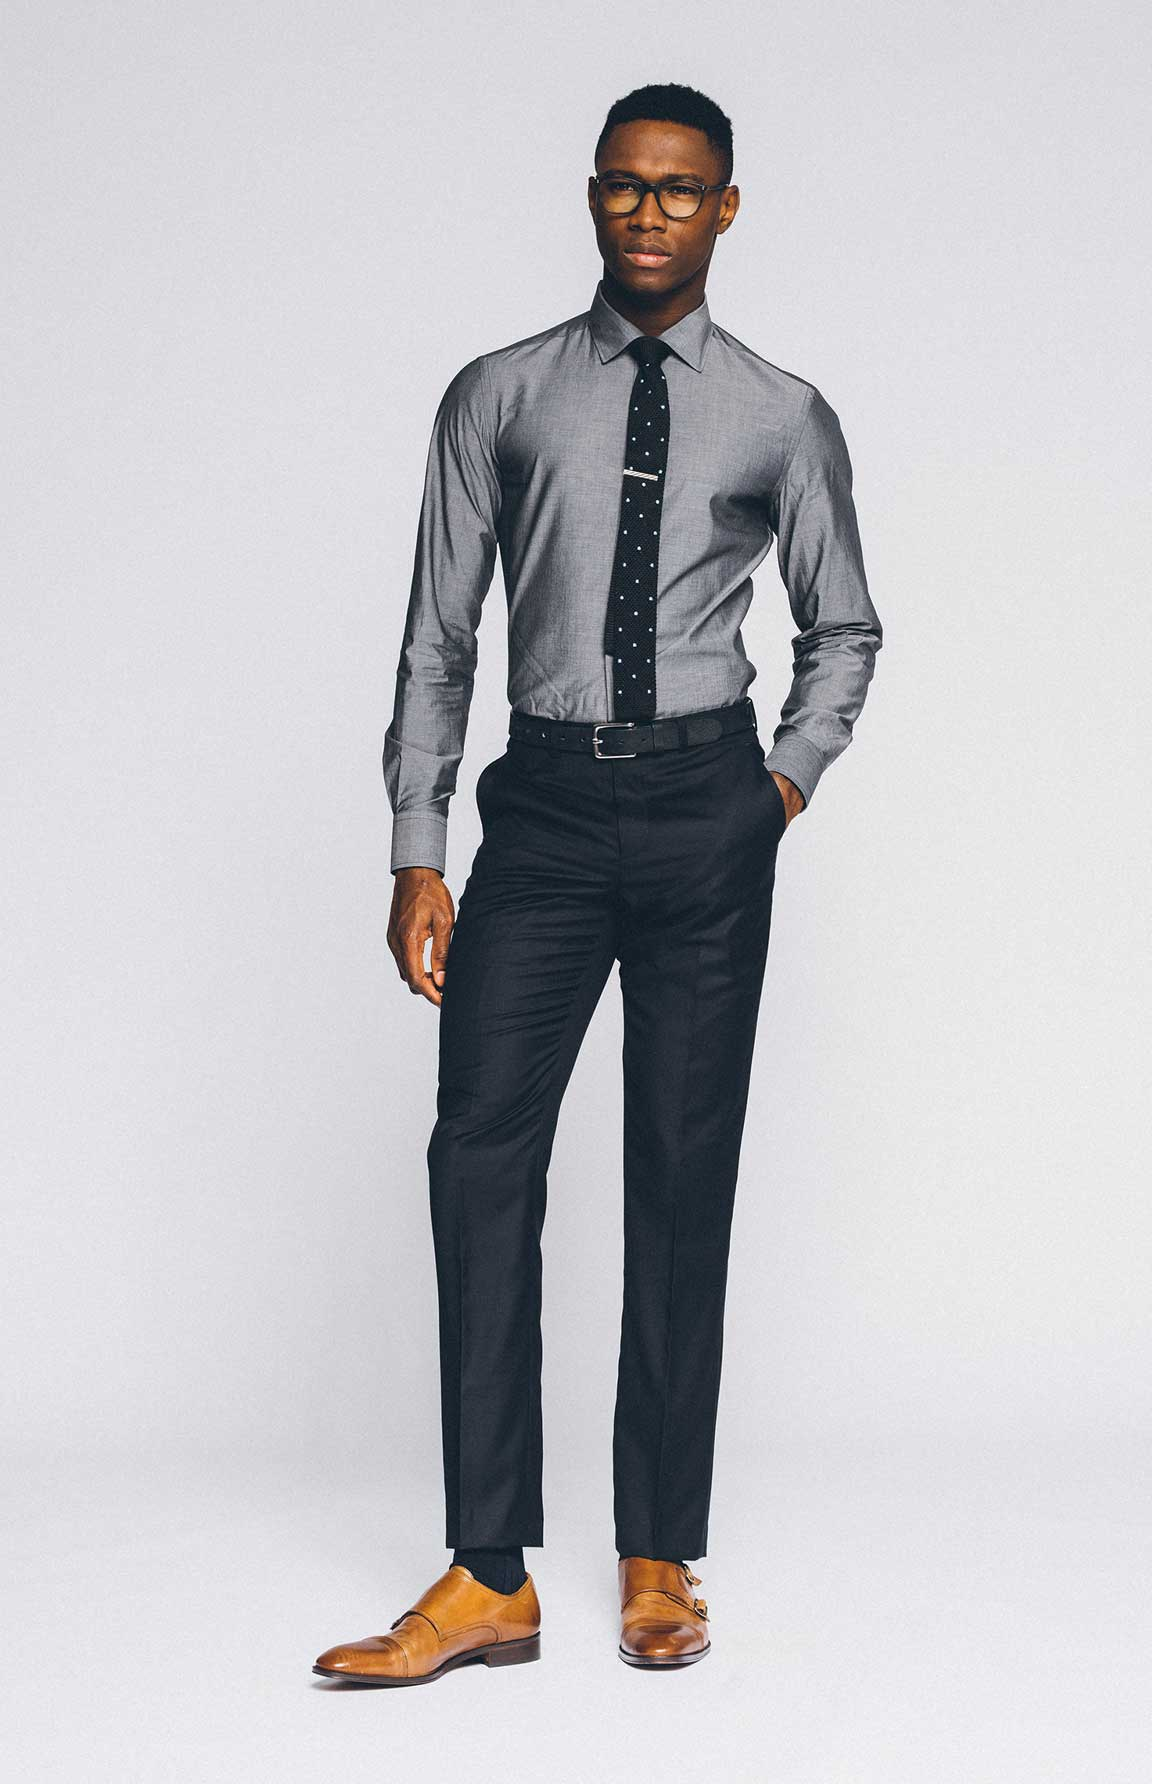F_belt: (478, 701, 767, 767)
F_dress pants: (407, 768, 785, 1554)
F_shirt: (360, 293, 879, 857)
F_tie: (592, 338, 684, 723)
